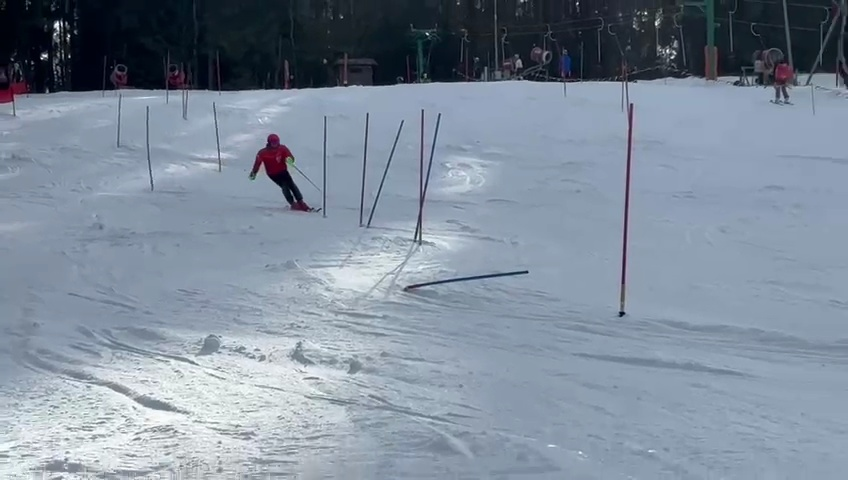gate: (600, 88, 652, 323), (384, 250, 535, 302), (614, 95, 644, 317), (367, 111, 405, 236), (414, 105, 440, 248), (356, 110, 370, 231), (139, 106, 156, 191), (319, 112, 331, 218), (209, 101, 225, 173), (2, 68, 19, 120), (557, 37, 570, 99), (180, 63, 192, 123), (113, 88, 124, 151), (214, 47, 225, 95), (163, 49, 172, 104), (99, 53, 109, 98), (807, 84, 819, 117), (559, 64, 569, 100), (278, 57, 287, 92), (281, 57, 289, 92)
